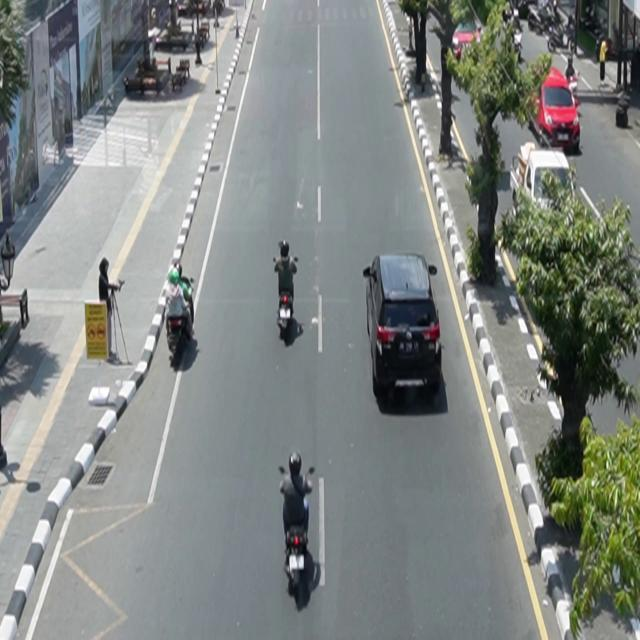car: (363, 253, 443, 398)
